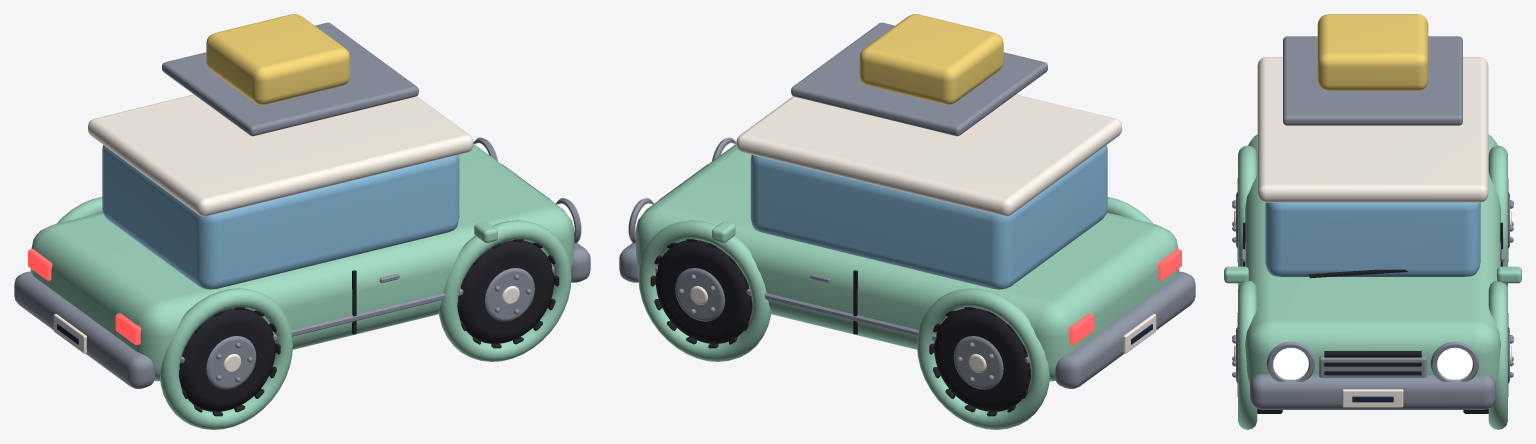
The model's file is car_b.glb.
The picture shows the model from 3 angles, left to right: view 1: azimuth 30°, elevation 25°; view 2: azimuth 150°, elevation 25°; view 3: azimuth 270°, elevation 25°; orthographic projection.
Visible parts, largest first — view 1: car_b; view 2: car_b; view 3: car_b.
Part boxes in pixels (x1,y1,x2,y2): car_b: [14, 14, 590, 429]; car_b: [619, 14, 1195, 429]; car_b: [1224, 14, 1521, 429].
Size of the model in its own units: 3.88 by 2.47 by 2.15.
1 material, 1 textured.
